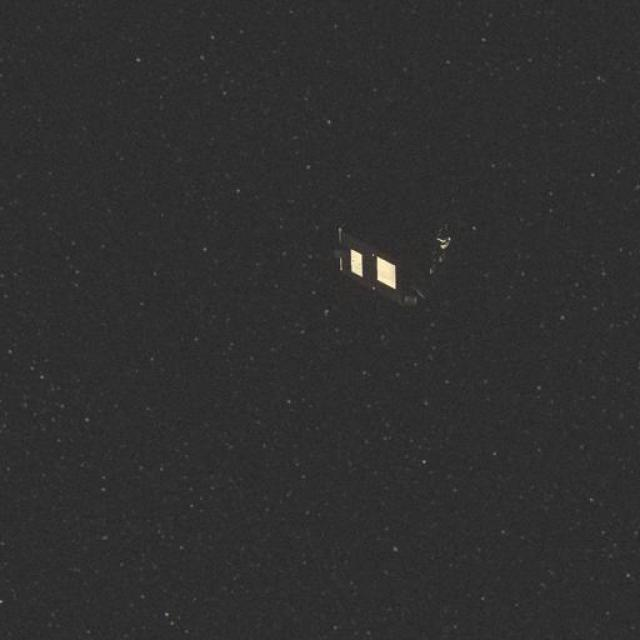proba_3_ocs: (311, 191, 468, 322)
